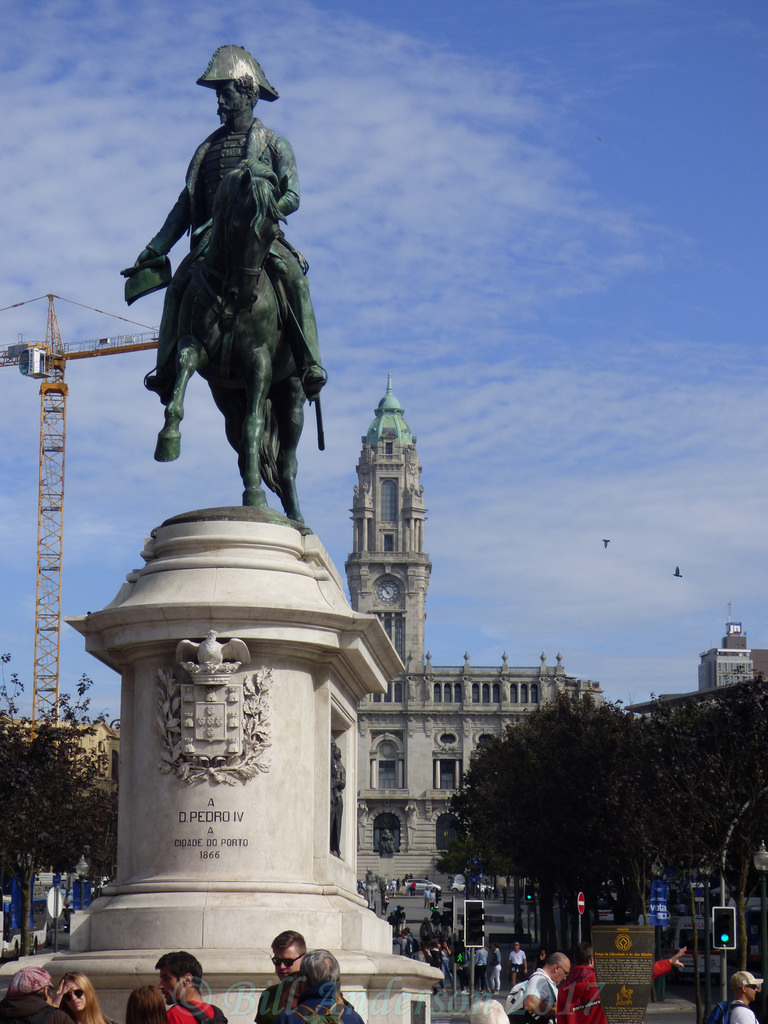camara: (344, 371, 602, 854)
